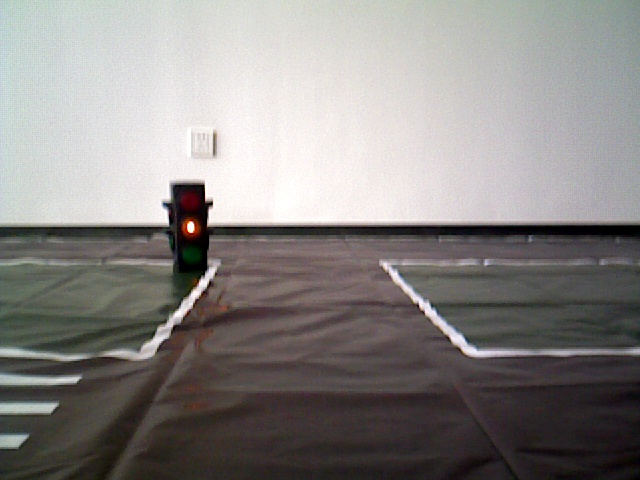yellow: (166, 181, 207, 266)
